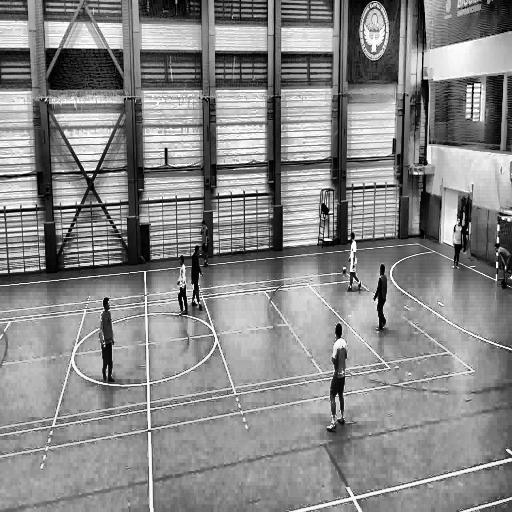ball: (341, 263, 348, 276)
player: (347, 231, 362, 295)
